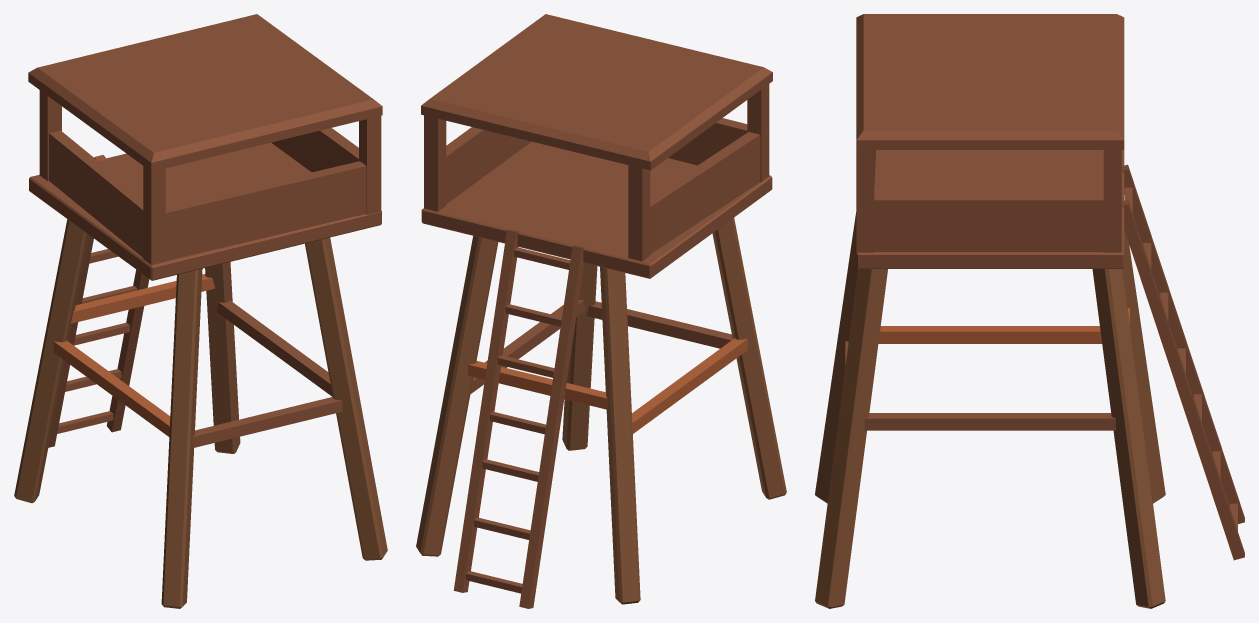
Rendered from huntersStand.fbx.
3 renders of one model, left to right at view 1: azimuth 30°, elevation 25°; view 2: azimuth 150°, elevation 25°; view 3: azimuth 270°, elevation 25°, orthographic. The views are drawn at different scales.
Parts seen in each view (by area): view 1: hunterStand; view 2: hunterStand; view 3: hunterStand.
Part boxes in pixels (<box>): hunterStand: <box>14,14,387,608</box>; hunterStand: <box>416,14,786,608</box>; hunterStand: <box>815,14,1244,608</box>.
Bounding box in the file's own units: 426 × 777 × 627.
1 material, 1 textured.
